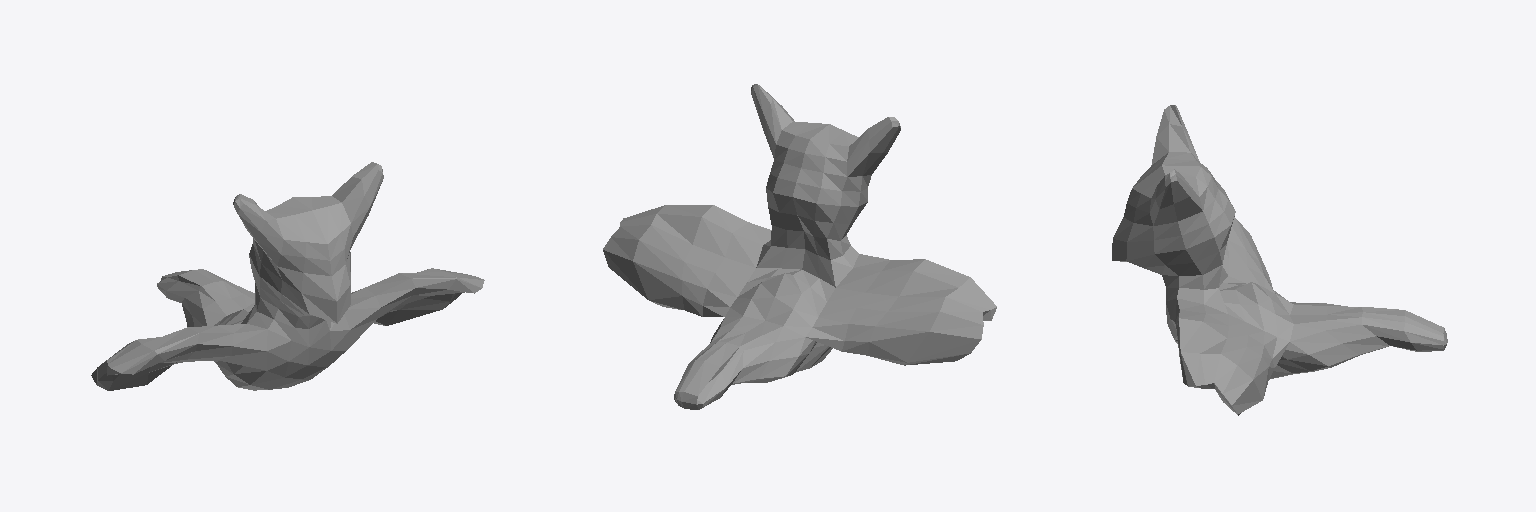
The model's file is Boss.obj.
3 renders of one model, left to right at view 1: azimuth 30°, elevation 25°; view 2: azimuth 150°, elevation 25°; view 3: azimuth 270°, elevation 25°, orthographic.
Parts seen in each view (by area): view 1: Cube.002; view 2: Cube.002; view 3: Cube.002.
Part boxes in pixels (x1,y1,x2,y2): Cube.002: (91, 162, 484, 390); Cube.002: (603, 84, 996, 409); Cube.002: (1112, 105, 1447, 415).
Size of the model in its own units: 4.85 by 2.88 by 3.72.